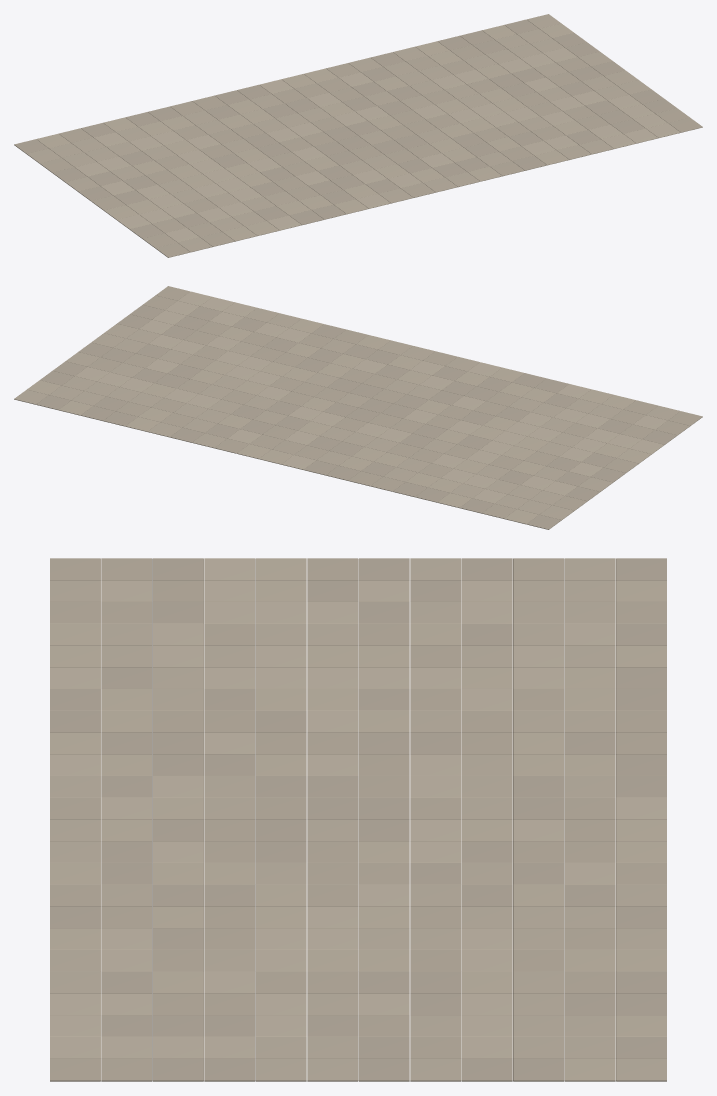
File: floor-v27.glb
The picture shows the model from 3 angles, top to bottom: view 1: azimuth 30°, elevation 25°; view 2: azimuth 150°, elevation 25°; view 3: azimuth 270°, elevation 25°; orthographic projection. The views are drawn at different scales.
Parts seen in each view (by area): view 1: no part large enough to name; view 2: no part large enough to name; view 3: AMBIENCE_V22_FLOOR_TILE_23_03, AMBIENCE_V22_FLOOR_TILE_23_08, AMBIENCE_V22_FLOOR_TILE_23_01, AMBIENCE_V22_FLOOR_TILE_23_02, AMBIENCE_V22_FLOOR_TILE_23_04, AMBIENCE_V22_FLOOR_TILE_23_05, AMBIENCE_V22_FLOOR_TILE_23_06, AMBIENCE_V22_FLOOR_TILE_23_07, AMBIENCE_V22_FLOOR_TILE_23_09, AMBIENCE_V22_FLOOR_TILE_23_10, AMBIENCE_V22_FLOOR_TILE_23_00, AMBIENCE_V22_FLOOR_TILE_23_11 (+276 smaller).
Boxes of the visible parts, x1=… form: AMBIENCE_V22_FLOOR_TILE_23_03: x1=204, y1=1058, x2=255, y2=1081; AMBIENCE_V22_FLOOR_TILE_23_08: x1=461, y1=1058, x2=512, y2=1081; AMBIENCE_V22_FLOOR_TILE_23_01: x1=101, y1=1058, x2=152, y2=1081; AMBIENCE_V22_FLOOR_TILE_23_02: x1=152, y1=1058, x2=203, y2=1081; AMBIENCE_V22_FLOOR_TILE_23_04: x1=255, y1=1058, x2=306, y2=1081; AMBIENCE_V22_FLOOR_TILE_23_05: x1=307, y1=1058, x2=358, y2=1081; AMBIENCE_V22_FLOOR_TILE_23_06: x1=358, y1=1058, x2=409, y2=1081; AMBIENCE_V22_FLOOR_TILE_23_07: x1=410, y1=1058, x2=461, y2=1081; AMBIENCE_V22_FLOOR_TILE_23_09: x1=513, y1=1058, x2=564, y2=1081; AMBIENCE_V22_FLOOR_TILE_23_10: x1=564, y1=1058, x2=615, y2=1081; AMBIENCE_V22_FLOOR_TILE_23_00: x1=50, y1=1058, x2=100, y2=1081; AMBIENCE_V22_FLOOR_TILE_23_11: x1=616, y1=1058, x2=666, y2=1081.
Bounding box in the file's own units: 14.4 × 0.016 × 7.19.
